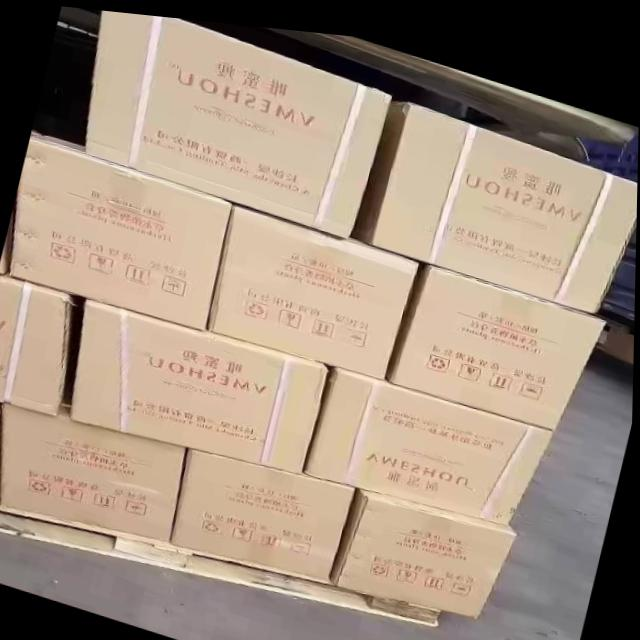box: (86, 8, 389, 232), (353, 94, 638, 301), (7, 131, 232, 329), (70, 295, 331, 465), (308, 356, 557, 514), (391, 254, 609, 419), (214, 198, 418, 371), (2, 379, 185, 538), (172, 446, 361, 574), (333, 479, 519, 606), (0, 273, 77, 415), (0, 403, 4, 509)
